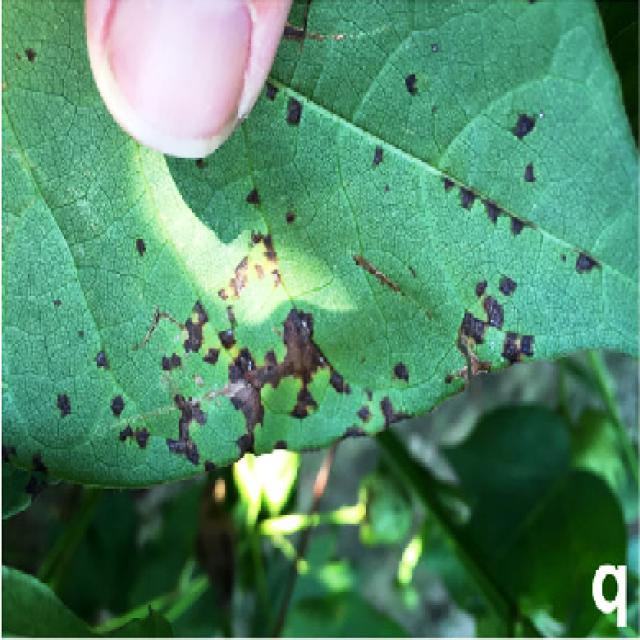Bacterial Blight: (118, 217, 376, 475)
